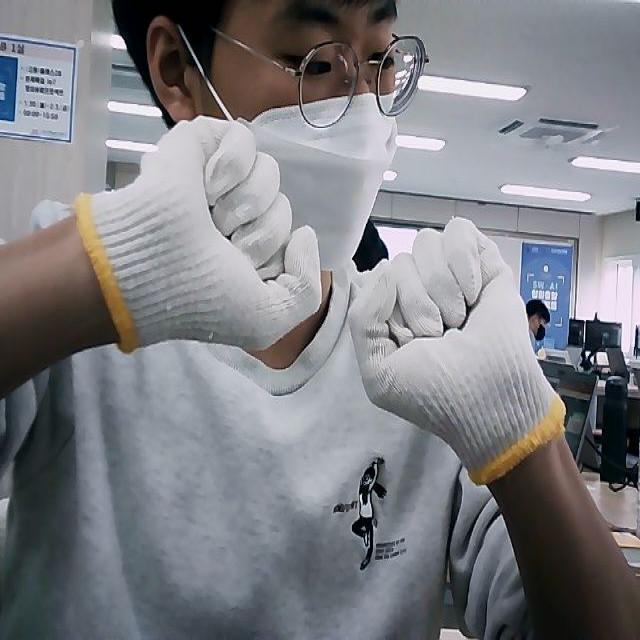gloves: (76, 115, 322, 351), (350, 217, 566, 476)
